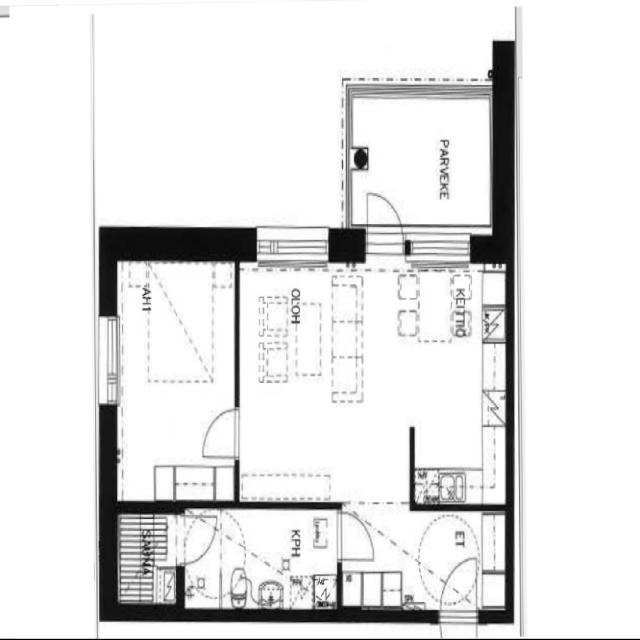door: (344, 510, 505, 622), (429, 552, 485, 628), (196, 399, 245, 466), (362, 183, 408, 254), (333, 506, 379, 572), (176, 504, 219, 569)
window: (246, 220, 336, 272), (93, 302, 123, 419), (406, 226, 476, 268)
zone: (290, 258, 518, 503), (238, 260, 368, 512), (109, 256, 240, 503), (338, 505, 505, 623), (184, 505, 338, 614), (114, 507, 180, 609)
